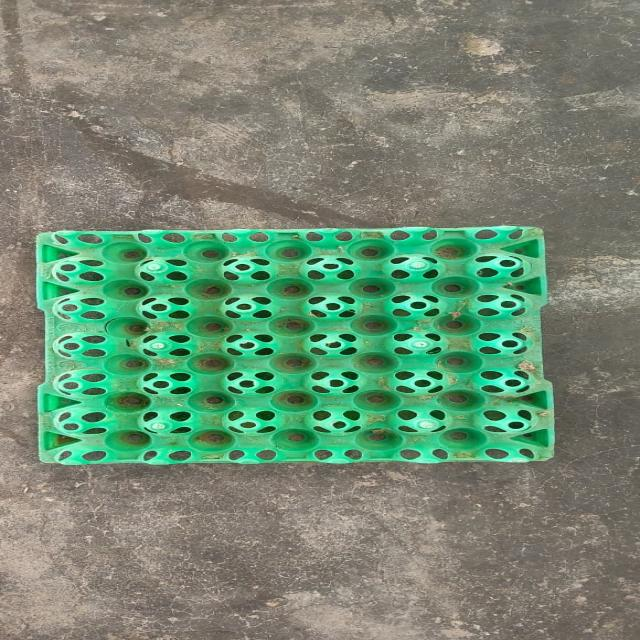egg_tray: (39, 227, 552, 464)
